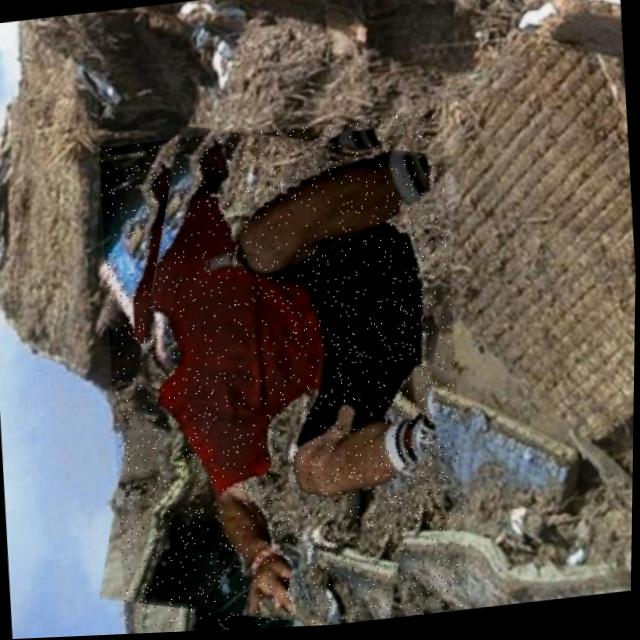Person in Rubble: (94, 110, 477, 636)
